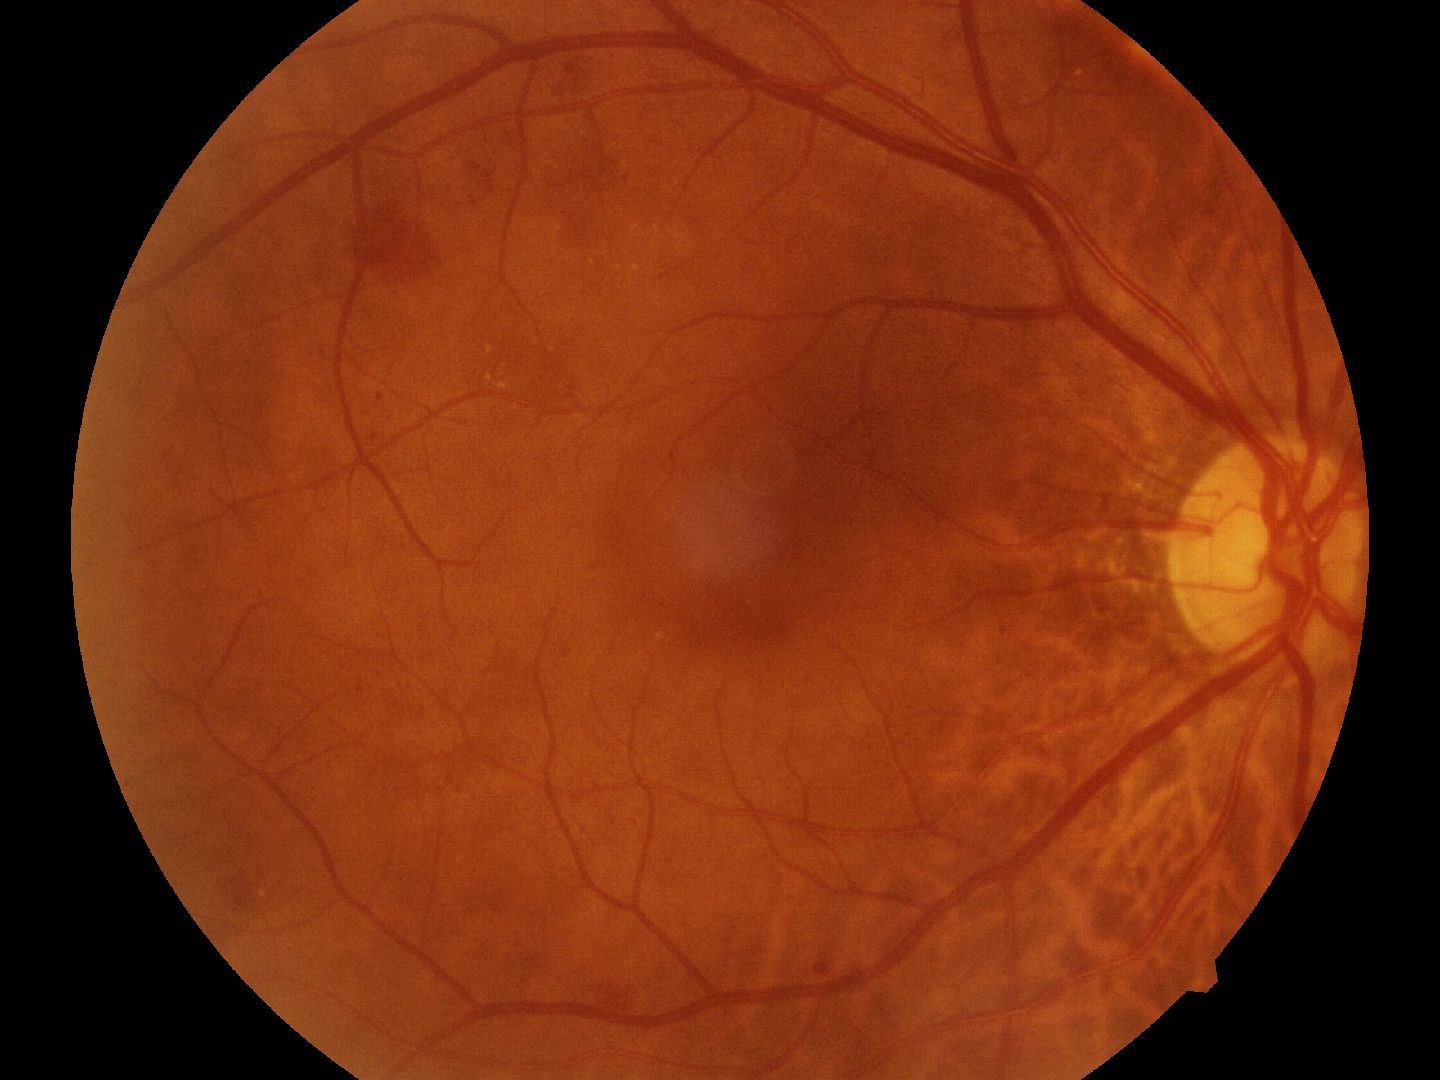Optic-Disc: (1180, 391, 1359, 704)
Venules: (722, 45, 1113, 321), (839, 754, 1132, 981)
